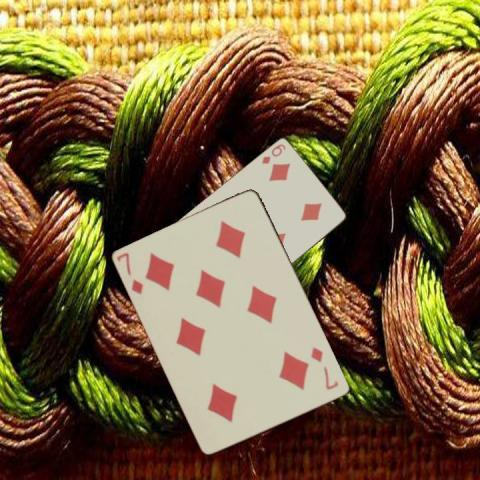6d: (258, 141, 287, 166)
7d: (308, 344, 340, 391), (114, 249, 145, 297)
